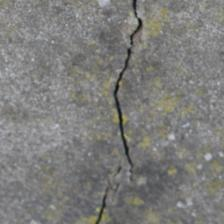Crack: (30, 4, 119, 114), (0, 5, 124, 42)
